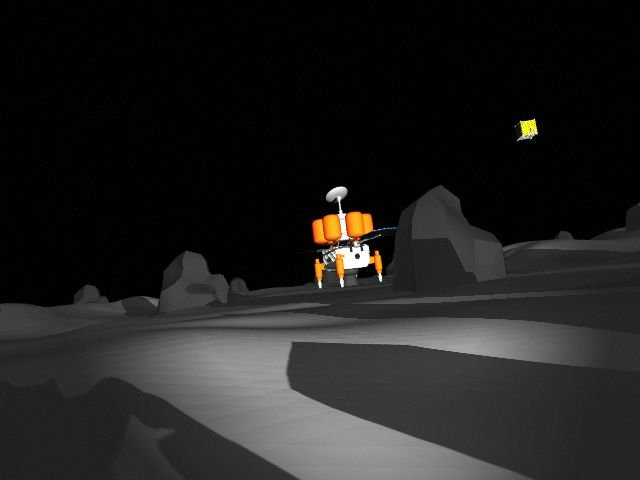homebase: (285, 185, 405, 290)
